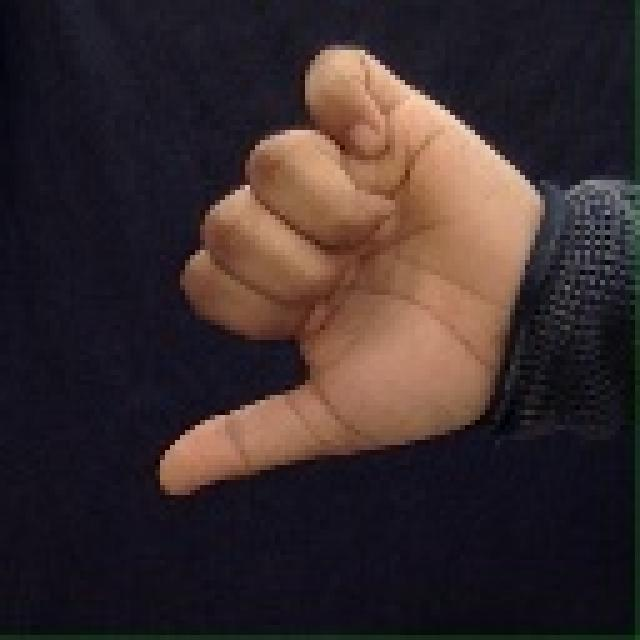Nine: (100, 17, 618, 523)
